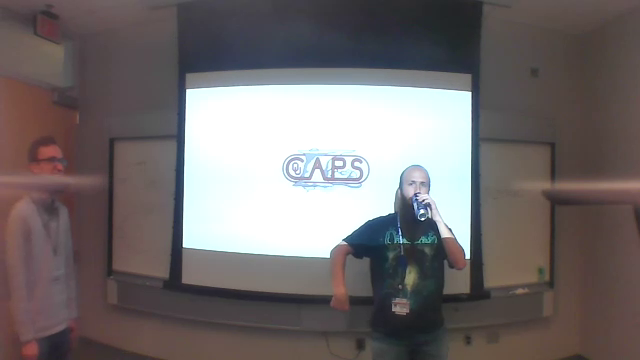down: (328, 287, 355, 320)
